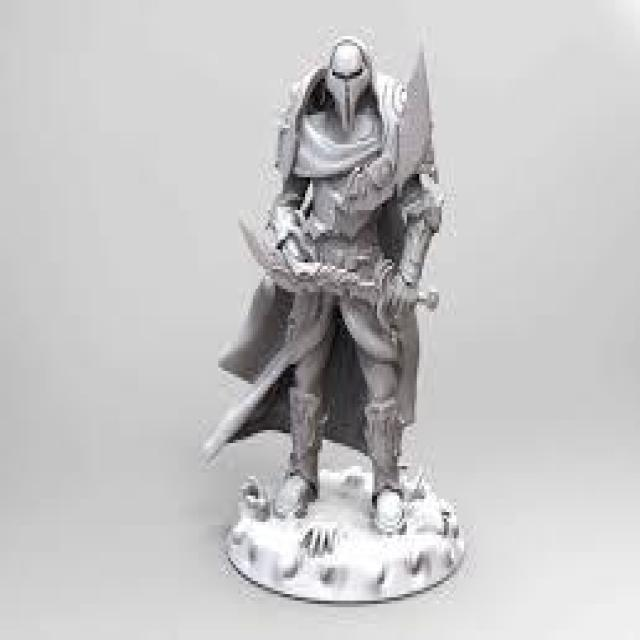Without deffect: (213, 18, 481, 612)
